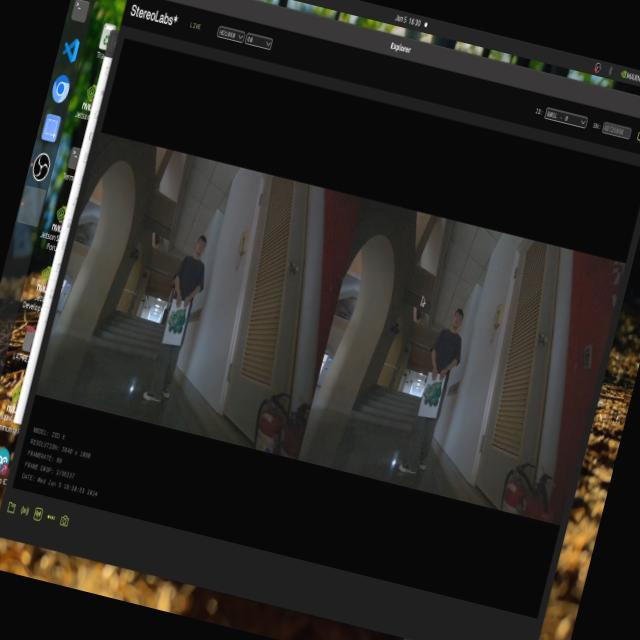green: (164, 308, 192, 346), (424, 382, 449, 416)
